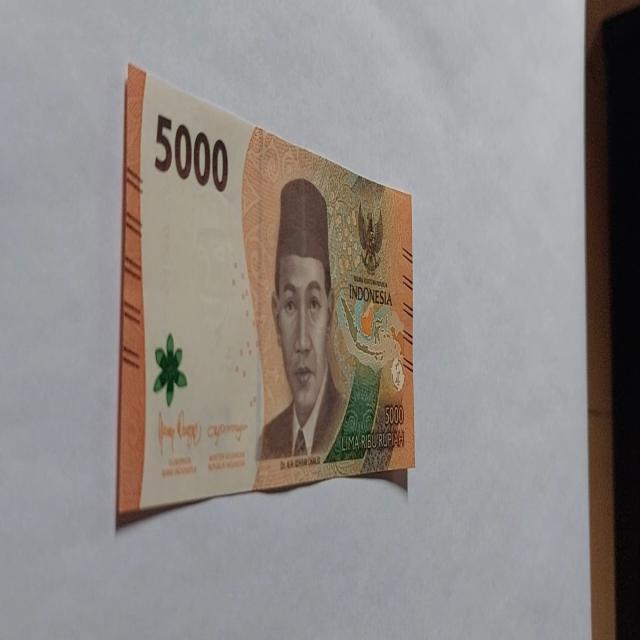lima ribu rupiah: (114, 66, 416, 531), (254, 176, 350, 464)
